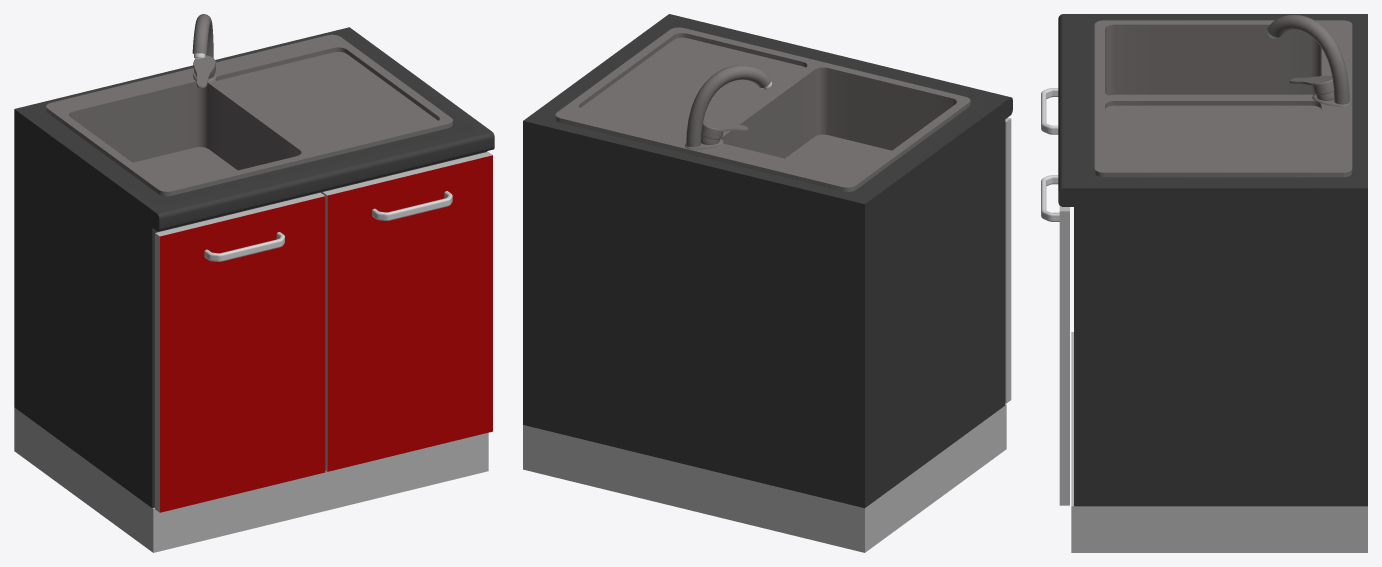
The model's file is lavello.obj.
3 renders of one model, left to right at view 1: azimuth 30°, elevation 25°; view 2: azimuth 150°, elevation 25°; view 3: azimuth 270°, elevation 25°, orthographic. The views are drawn at different scales.
Visible parts, largest first — view 1: Box282_7, Box272_4, Rectangle11_11, Rectangle10_12, Line50_9, Box30_10, Box273_5, Box27_3, Box28_6, Box283_8, Loft10_1, Loft11_2 (+1 smaller); view 2: Rectangle11_11, Rectangle10_12, Box30_10, Line50_9, Box273_5, Loft02_13; view 3: Rectangle11_11, Rectangle10_12, Line50_9, Box30_10, Box283_8, Loft02_13, Loft11_2, Loft10_1.
Part boxes in pixels (x1,y1,x2,y2): Box282_7: (327, 155, 492, 471); Box272_4: (160, 196, 325, 512); Rectangle11_11: (14, 127, 487, 508); Rectangle10_12: (46, 34, 453, 196); Line50_9: (14, 27, 494, 231); Box30_10: (14, 407, 488, 552); Box273_5: (155, 233, 159, 512); Box27_3: (155, 192, 324, 236); Box28_6: (323, 152, 492, 195); Box283_8: (322, 192, 327, 471); Loft10_1: (204, 232, 284, 261); Loft11_2: (372, 191, 452, 220); Rectangle11_11: (523, 119, 1005, 508); Rectangle10_12: (555, 27, 970, 191); Box30_10: (523, 404, 1006, 552); Line50_9: (523, 14, 1012, 221); Box273_5: (1005, 119, 1011, 403); Loft02_13: (686, 65, 771, 147); Rectangle11_11: (1074, 207, 1367, 506); Rectangle10_12: (1094, 20, 1352, 177); Line50_9: (1058, 14, 1367, 206); Box30_10: (1071, 332, 1367, 552); Box283_8: (1059, 211, 1069, 505); Loft02_13: (1267, 14, 1349, 104); Loft11_2: (1041, 175, 1059, 221); Loft10_1: (1041, 88, 1058, 134).
Bounding box in the file's own units: 80 × 94.97 × 63.38.
